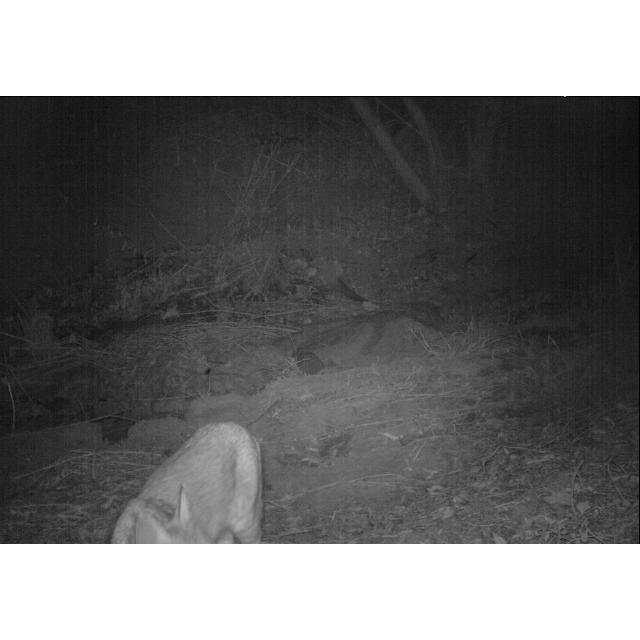animals: (106, 419, 264, 545)
